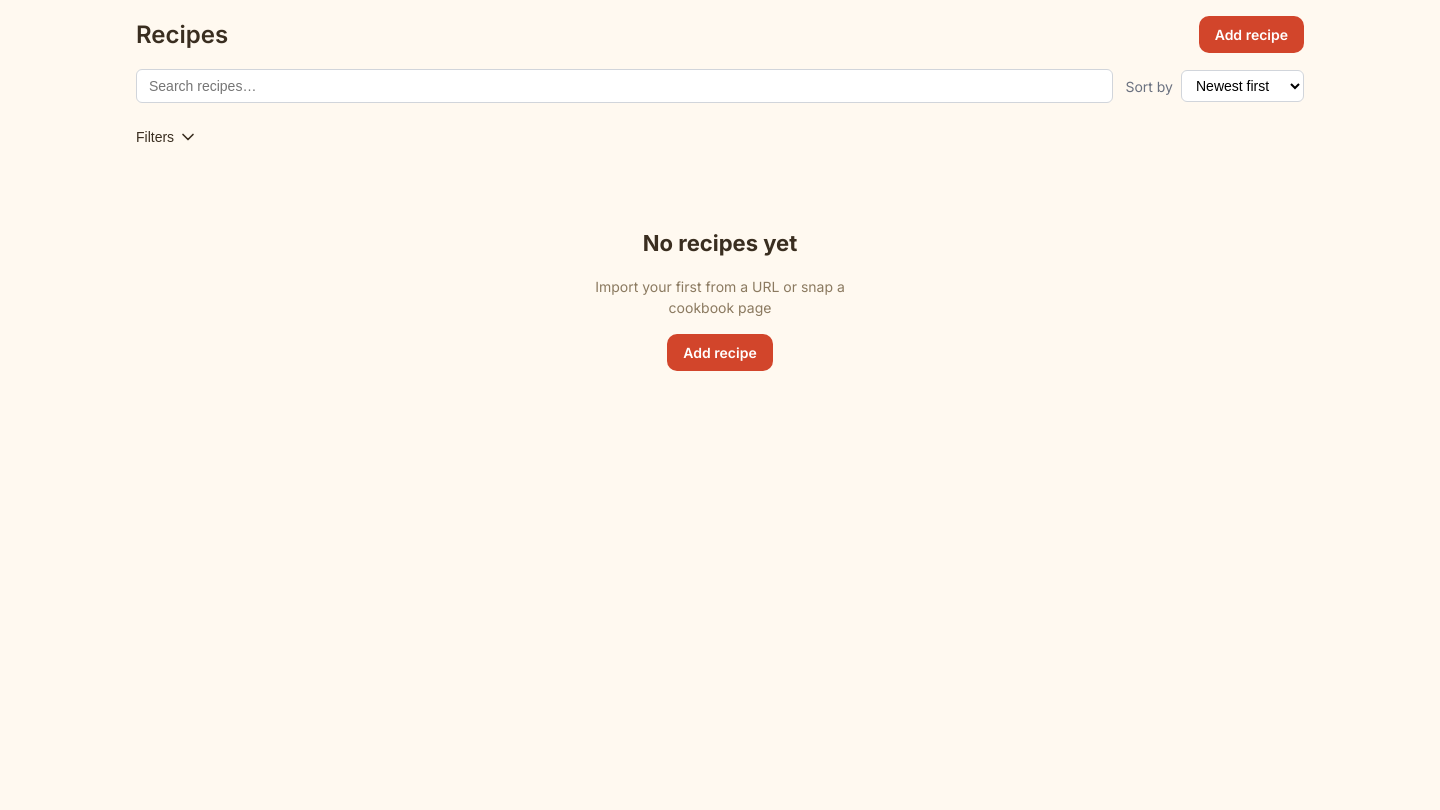
Test case: RecipeListView › opens the AddRecipeSheet when the empty-state action button is clicked
Click the button with test id "empty-state-add-recipe-btn". click: (720, 352)
box: top-left (667, 334), bottom-right (773, 371)
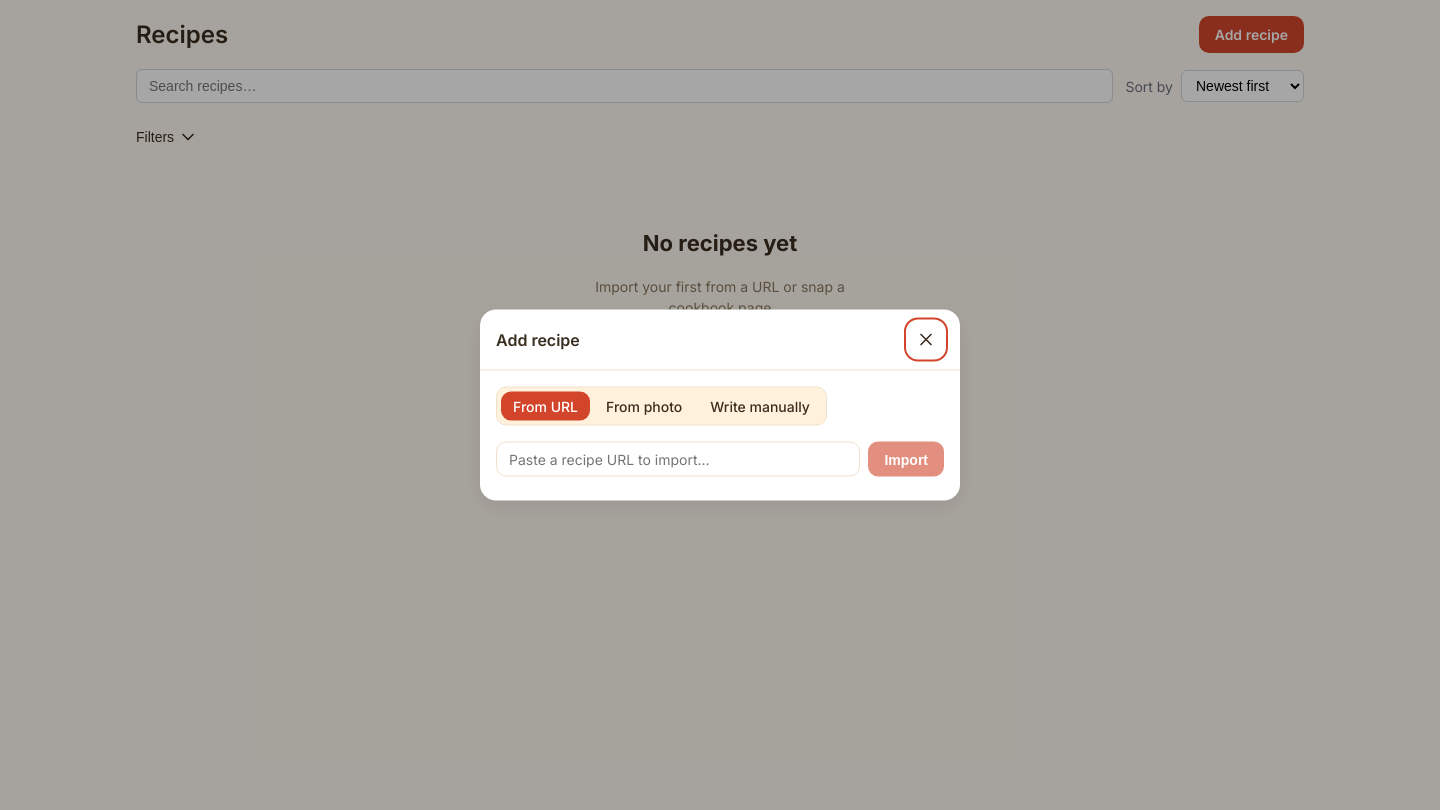
Result: the dialog with test id "add-recipe-sheet" is shown at top-left (480, 310), bottom-right (960, 500)
